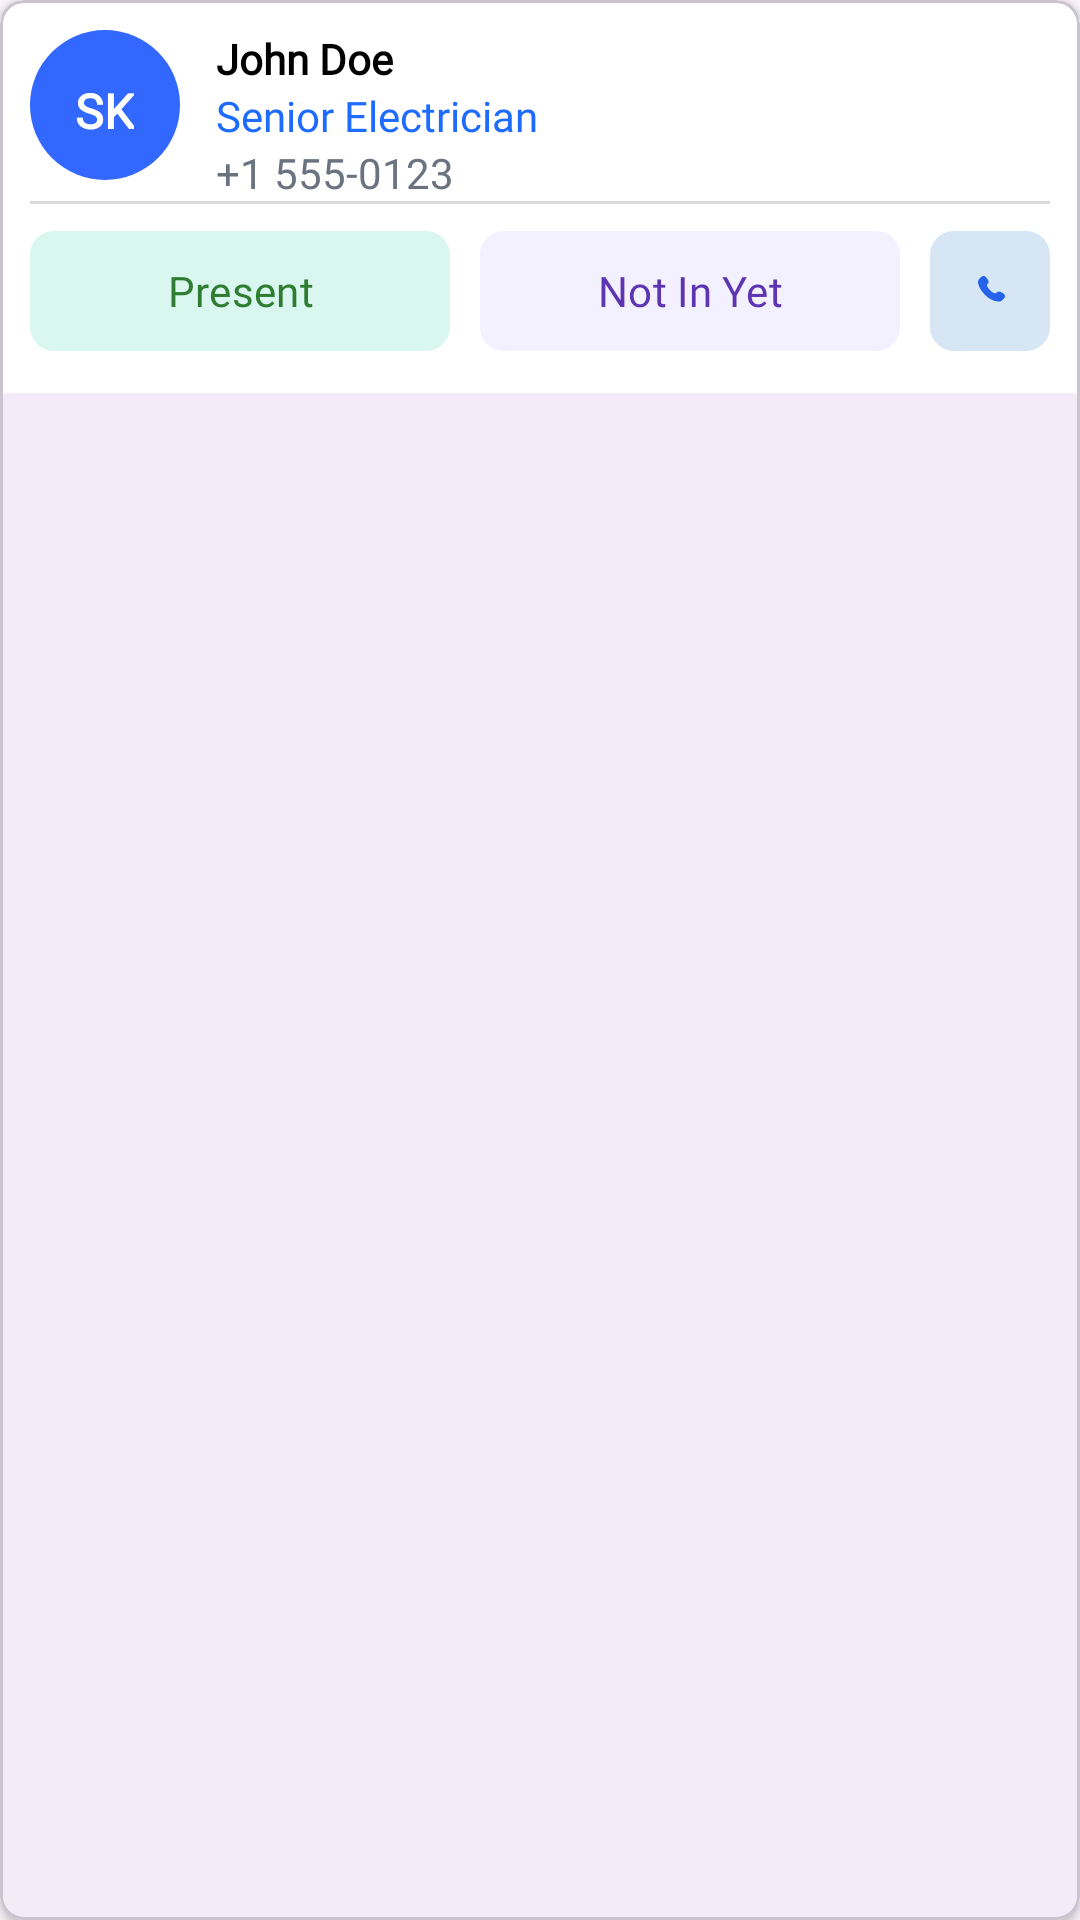

Point at icon controls on the screen. Image size 1080×1920, points as (x,y).
phone: (990,291)
